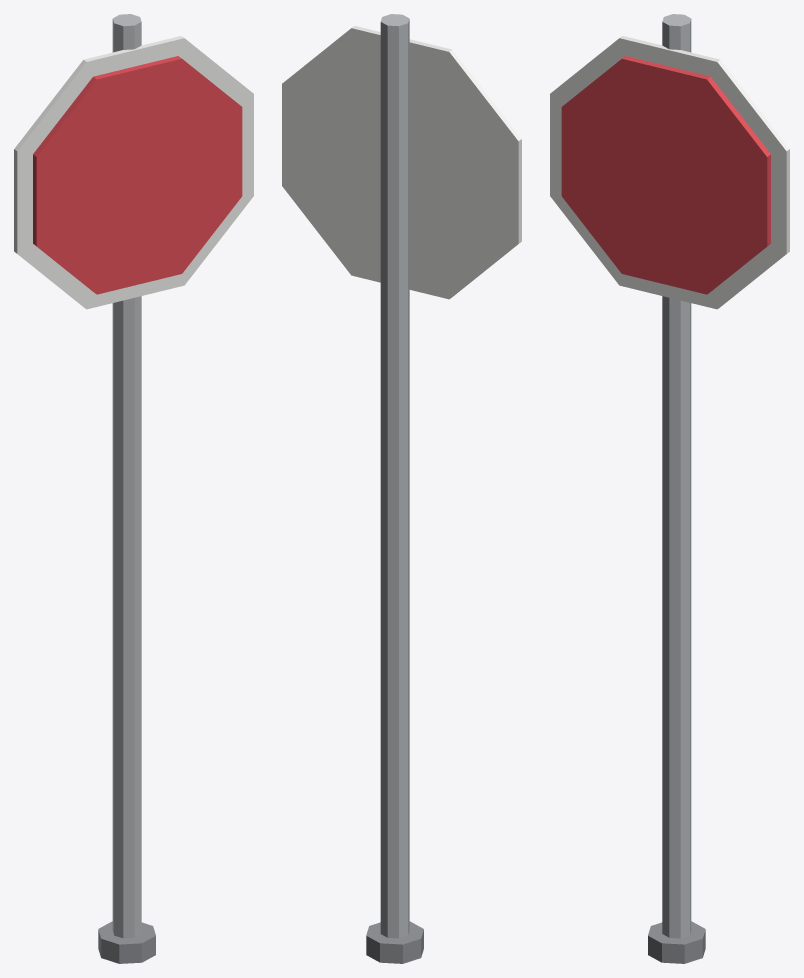
The model's file is th4_schild_stop.glb.
3 renders of one model, left to right at view 1: azimuth 30°, elevation 25°; view 2: azimuth 150°, elevation 25°; view 3: azimuth 330°, elevation 25°, orthographic.
Parts seen in each view (by area): view 1: AchteckRot, Pfosten, RandWeiss, Sockel; view 2: RandWeiss, Pfosten, Sockel; view 3: AchteckRot, Pfosten, RandWeiss, Sockel.
Boxes of the visible parts, x1,y1,x2,y2 form: AchteckRot: (33, 56, 242, 294); Pfosten: (112, 14, 141, 938); RandWeiss: (14, 36, 253, 309); Sockel: (98, 921, 155, 963); RandWeiss: (282, 26, 521, 299); Pfosten: (380, 14, 409, 938); Sockel: (366, 921, 423, 963); AchteckRot: (561, 56, 770, 294); Pfosten: (662, 14, 691, 938); RandWeiss: (550, 36, 789, 309); Sockel: (648, 921, 705, 963).
Bounding box in the file's own units: 0.6375 × 2.4 × 0.14.
